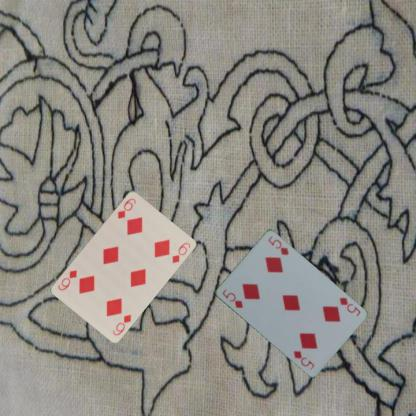5d: (219, 286, 244, 310), (336, 295, 362, 318)
6d: (115, 195, 137, 220), (110, 312, 132, 336)
